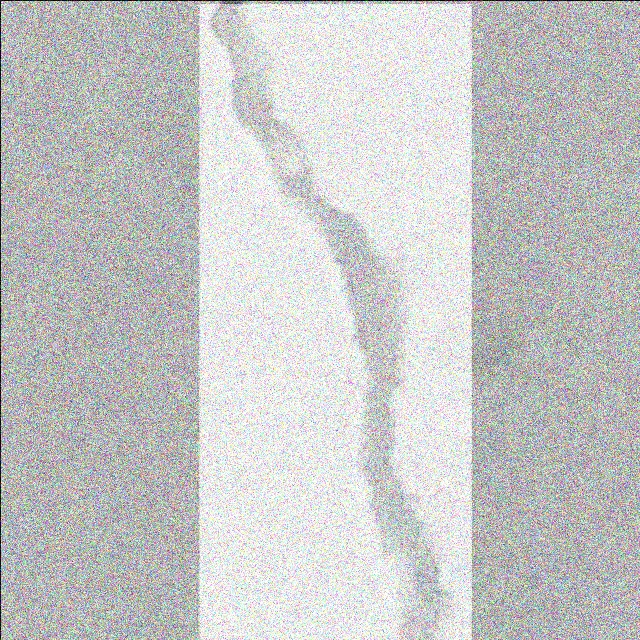SurfaceCrack: (220, 0, 492, 630)
